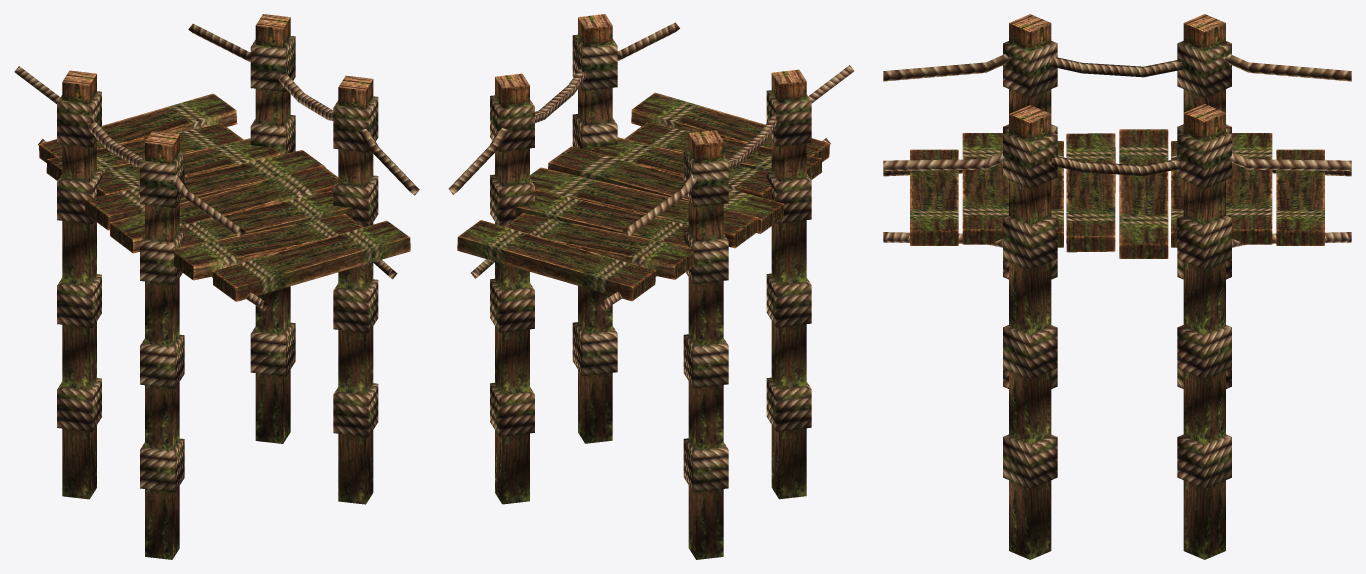
Rendered from StoneRoad07.FBX.
3 renders of one model, left to right at view 1: azimuth 30°, elevation 25°; view 2: azimuth 150°, elevation 25°; view 3: azimuth 270°, elevation 25°, orthographic. The views are drawn at different scales.
Visible parts, largest first — view 1: StoneRoad07; view 2: StoneRoad07; view 3: StoneRoad07.
Boxes of the visible parts, bbox=[...] form: StoneRoad07: bbox=[14, 14, 419, 559]; StoneRoad07: bbox=[448, 14, 854, 559]; StoneRoad07: bbox=[883, 14, 1351, 559].
Size of the model in its own units: 310 by 527 by 500.
